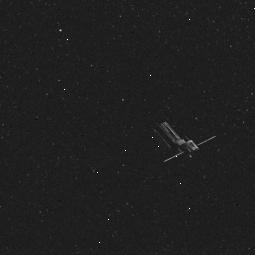soho: (144, 114, 214, 168)
